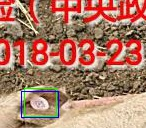text: (24, 88, 56, 116)
